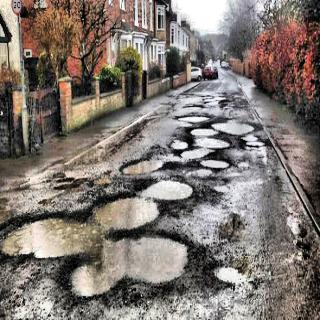pothole: (5, 182, 200, 303), (207, 249, 252, 307), (211, 104, 271, 134), (168, 134, 232, 158), (117, 153, 169, 180), (200, 155, 240, 181), (171, 106, 215, 128), (242, 134, 279, 155)
